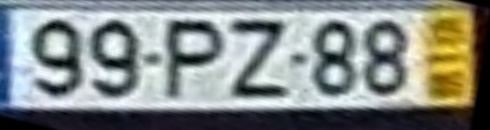8: (359, 15, 414, 99), (305, 17, 359, 101)
9: (85, 17, 147, 103), (27, 17, 88, 101)
P: (163, 20, 229, 105)
Z: (228, 21, 295, 102)
